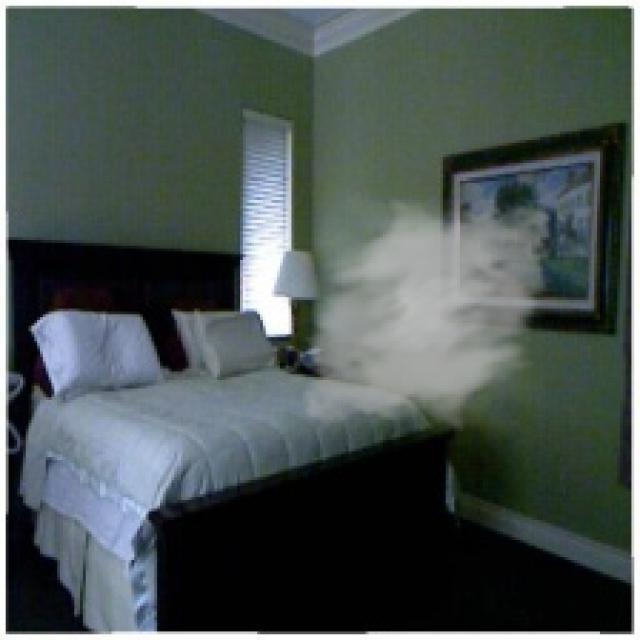Smoke: (292, 185, 562, 448)
